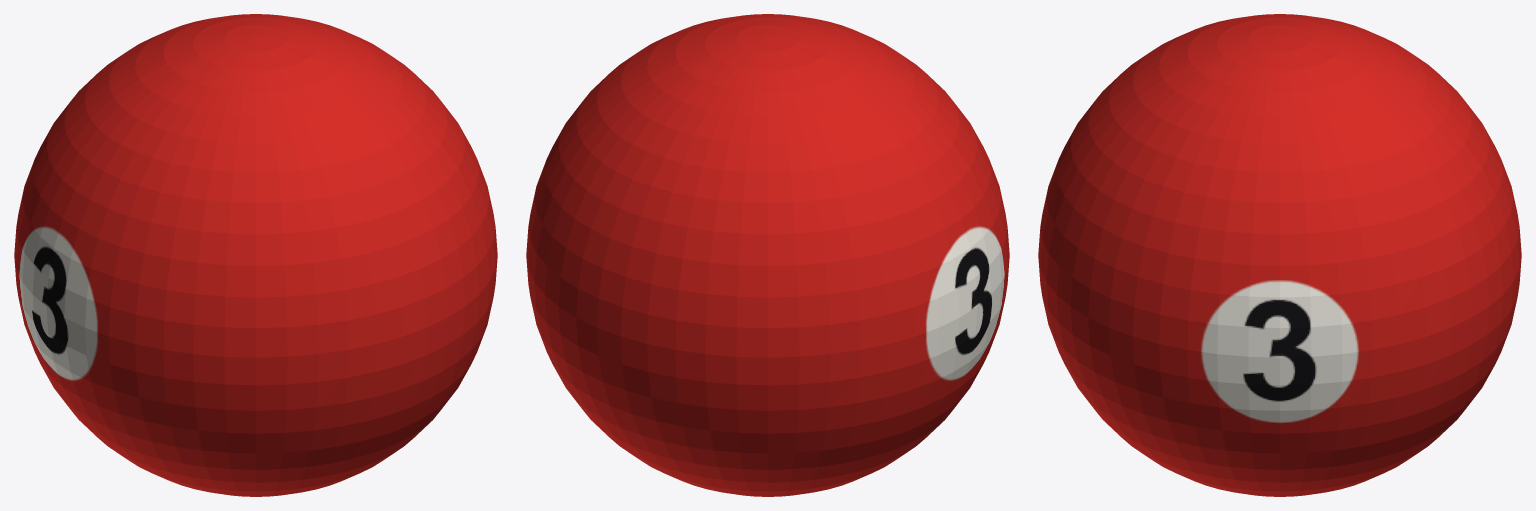
File: ball_3.obj
3 renders of one model, left to right at view 1: azimuth 30°, elevation 25°; view 2: azimuth 150°, elevation 25°; view 3: azimuth 270°, elevation 25°, orthographic.
Bounding box in the file's own units: 0.0571 × 0.0571 × 0.0571.
Materials: 1 (1 with a texture image).
